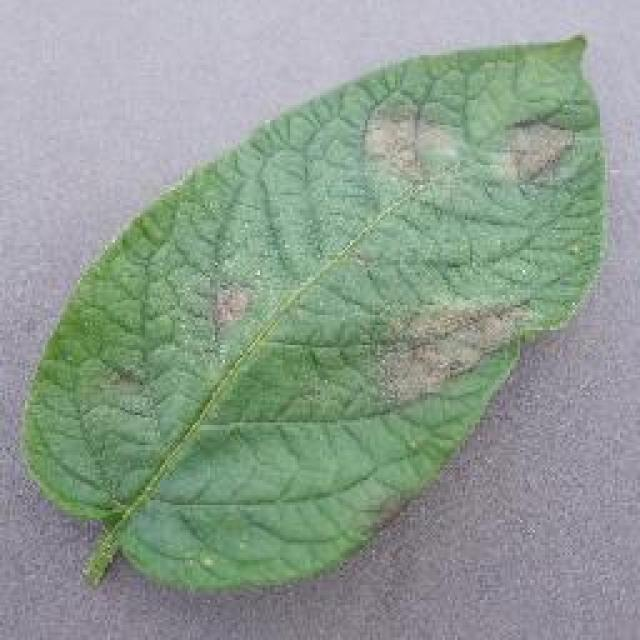late_blight: (15, 28, 613, 598)
